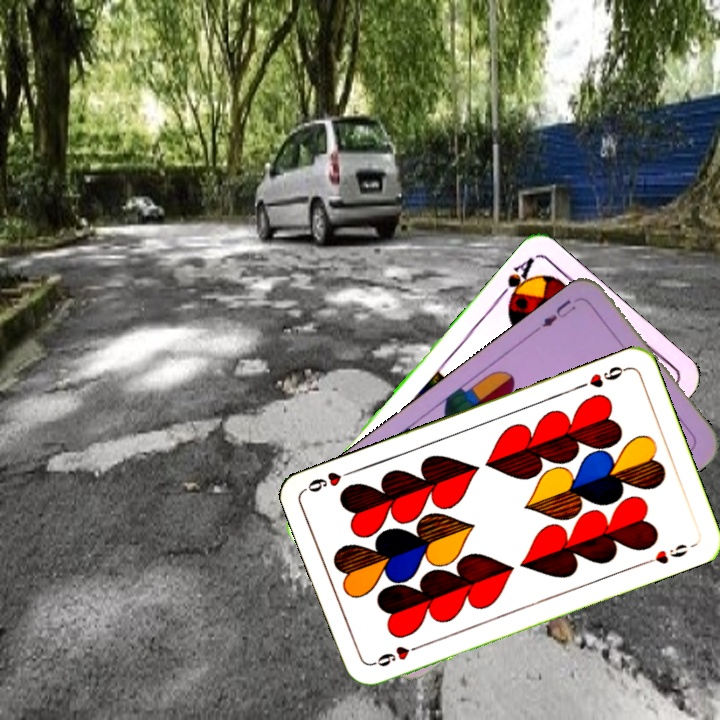EU: (532, 293, 584, 334)
H9: (368, 640, 425, 670), (574, 362, 631, 391)
SA: (493, 253, 539, 309)
